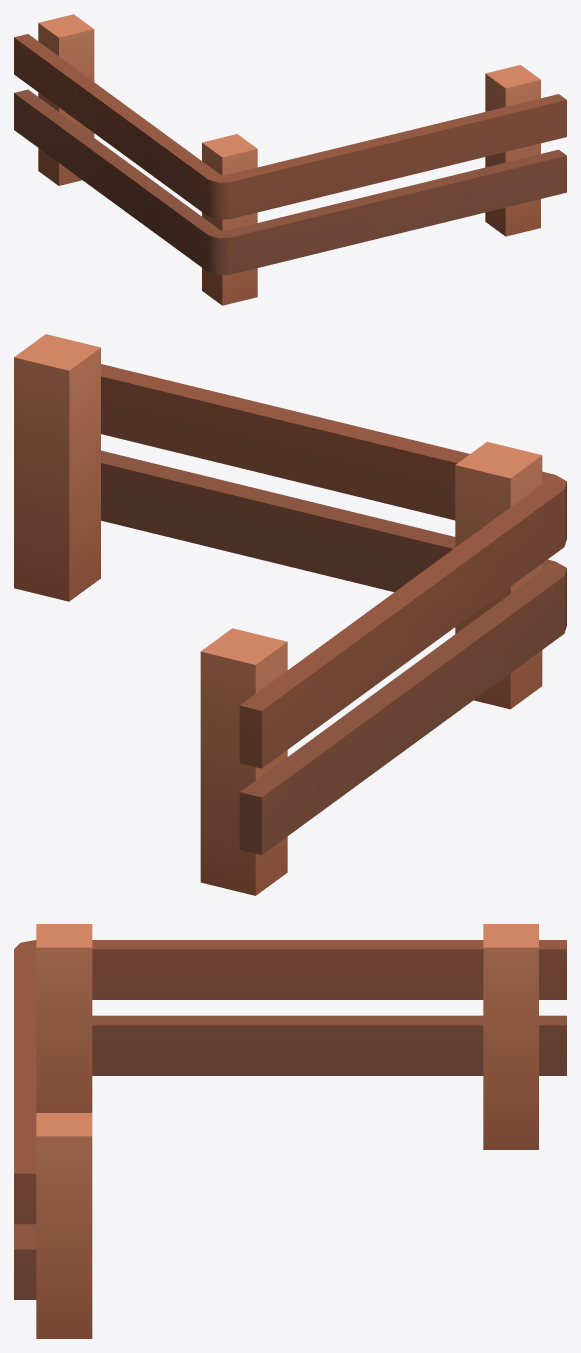
File: fence-corner.glb
3 renders of one model, top to bottom at view 1: azimuth 30°, elevation 25°; view 2: azimuth 150°, elevation 25°; view 3: azimuth 270°, elevation 25°, orthographic. The views are drawn at different scales.
Visible parts, largest first — view 1: fence-corner; view 2: fence-corner; view 3: fence-corner.
Part boxes in pixels (x1,y1,x2,y2): fence-corner: (14, 14, 566, 305); fence-corner: (14, 334, 566, 895); fence-corner: (14, 924, 566, 1338).
Bounding box in the file's own units: 0.99 × 0.4 × 0.99.
Materials: 1 (1 with a texture image).
